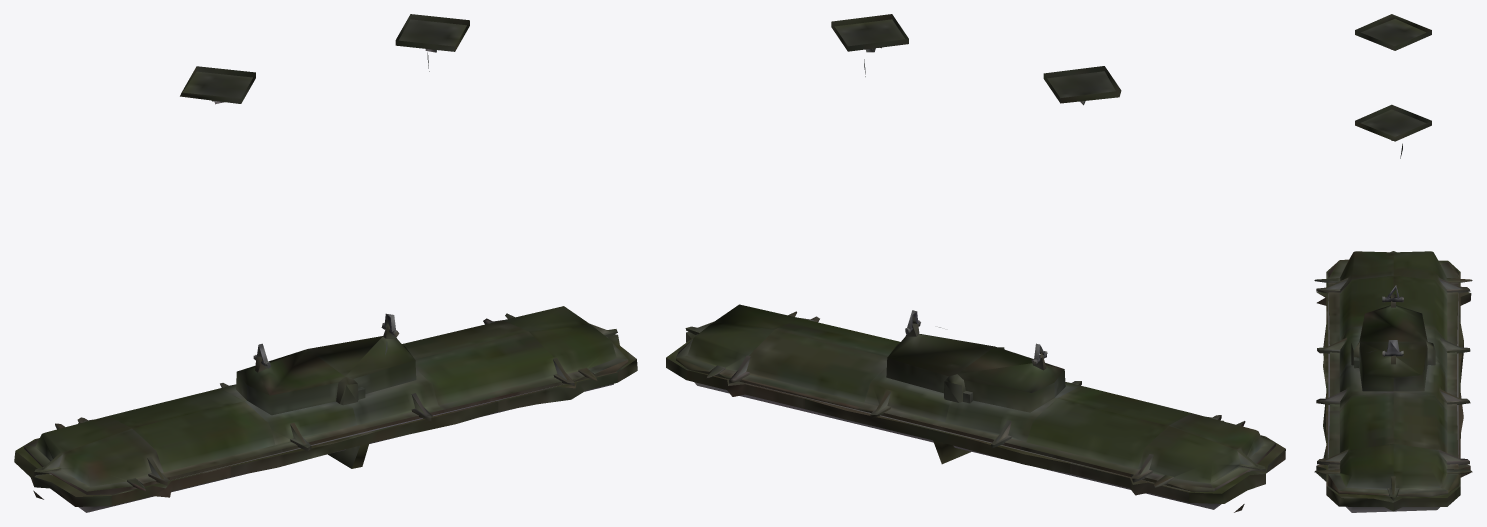
Rendered from lampCaged_lo.glb.
3 renders of one model, left to right at view 1: azimuth 30°, elevation 25°; view 2: azimuth 150°, elevation 25°; view 3: azimuth 270°, elevation 25°, orthographic. The views are drawn at different scales.
Parts seen in each view (by area): view 1: caged_hanging_light; view 2: caged_hanging_light; view 3: caged_hanging_light.
Boxes of the visible parts, x1,y1,x2,y2 form: caged_hanging_light: (14, 14, 637, 512); caged_hanging_light: (666, 14, 1285, 512); caged_hanging_light: (1314, 14, 1472, 512).
Size of the model in its own units: 1.16 by 0.7501 by 0.3149.
1 material, 1 textured.
